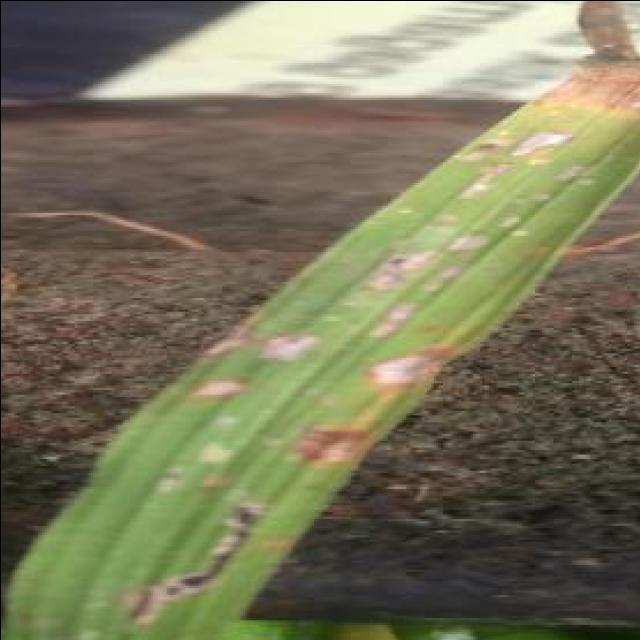Leaf_Blast: (270, 403, 424, 495), (159, 350, 269, 438), (350, 334, 463, 412), (258, 299, 341, 371)
